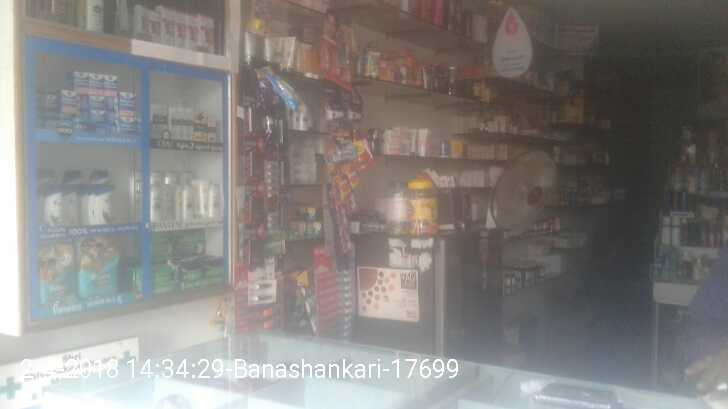vicks: (87, 74, 103, 96), (117, 94, 138, 109), (103, 77, 118, 96), (73, 74, 87, 91), (64, 95, 78, 111)
